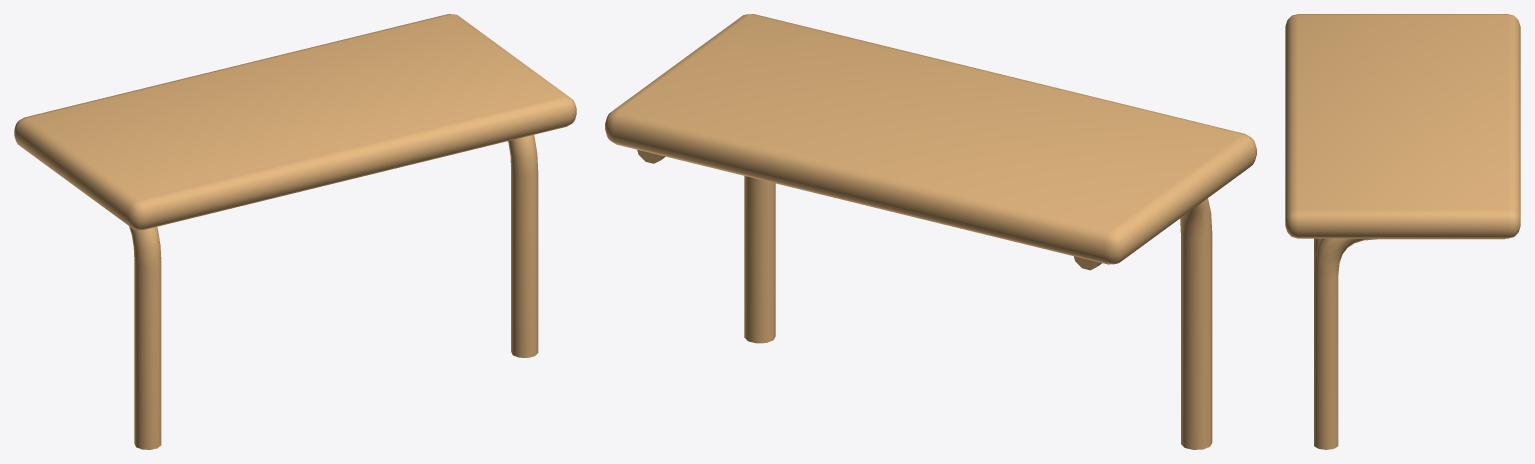
File: desk_pine.glb
3 views of the same model, side by side, from view 1: azimuth 30°, elevation 25°; view 2: azimuth 150°, elevation 25°; view 3: azimuth 270°, elevation 25° (orthographic). The views are drawn at different scales.
Parts seen in each view (by area): view 1: pine; view 2: pine; view 3: pine.
Part boxes in pixels (box(x1,y1,x2,y2)): pine: box(14, 14, 576, 449); pine: box(605, 14, 1256, 449); pine: box(1285, 14, 1520, 449).
Bounding box in the file's own units: 0.95 × 0.53 × 0.46.
